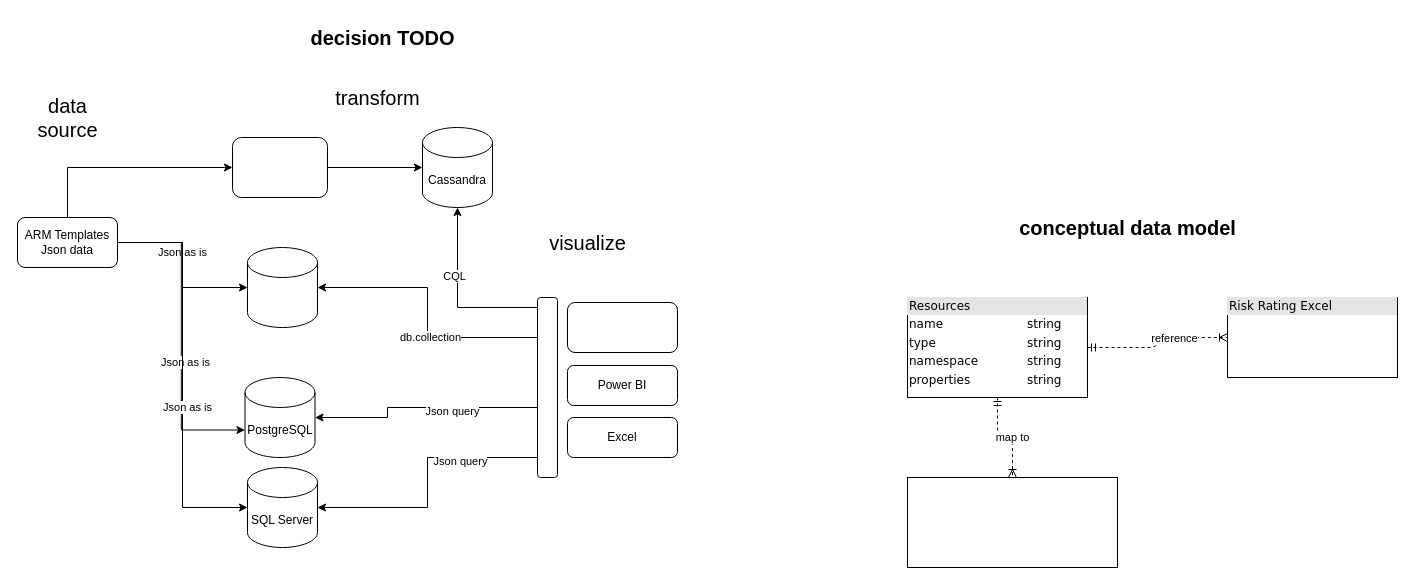
This 1415x585 diagram has some shape labels left out. The shapes that lost their labels are listed below. From the top down, each one's box as (x1, y1, x2, y2) in pixels, then its label:
(232, 136, 328, 198): flatten by Databricks
(246, 246, 318, 328): MongoDB
(566, 302, 678, 352): Jupyter notebook Pandas
(906, 476, 1118, 568): AgencyInfo name string subscription_name string subscription_id string
